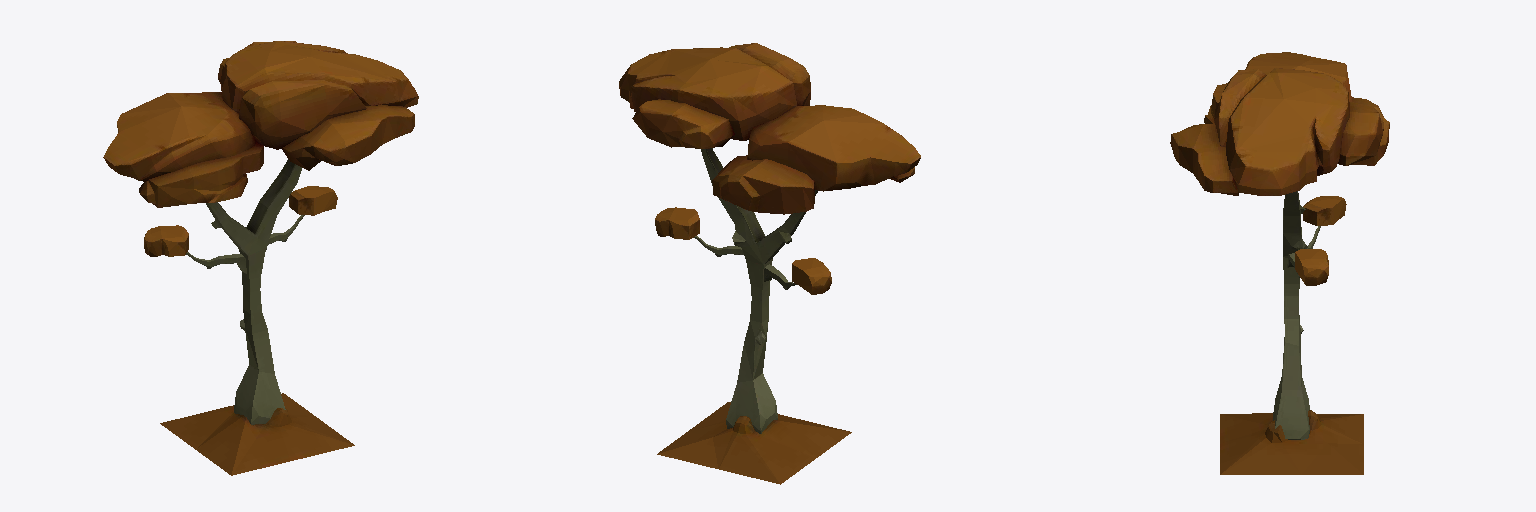
3 views of the same model, side by side, from view 1: azimuth 30°, elevation 25°; view 2: azimuth 150°, elevation 25°; view 3: azimuth 270°, elevation 25° (orthographic).
Parts seen in each view (by area): view 1: FOL_Foliage_05; view 2: FOL_Foliage_05; view 3: FOL_Foliage_05.
Part boxes in pixels (bbox=[...]): FOL_Foliage_05: bbox=[103, 41, 418, 475]; FOL_Foliage_05: bbox=[619, 43, 920, 484]; FOL_Foliage_05: bbox=[1170, 52, 1389, 474].
Bounding box in the file's own units: 2.87 × 3.46 × 1.84.
1 materials, 1 textured.